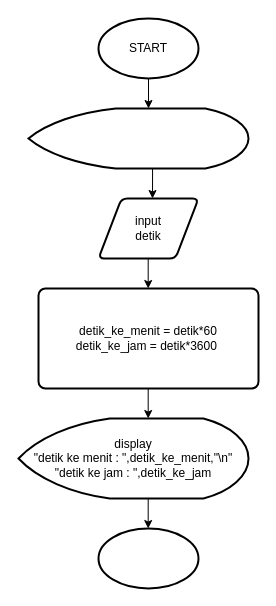
Some shapes in this 276 by 606 pixel diagram are drawn without their labels. The shapes that lost their labels are listed below. From the top down, each one's centre as x and y in pixels, then its label:
point (138, 138): display "input nilai detik :"
point (148, 558): END
